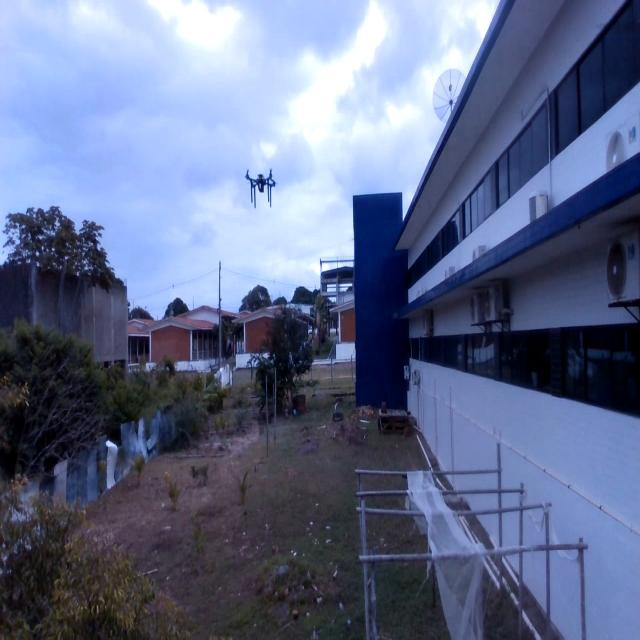-uav-: (240, 154, 282, 210)
